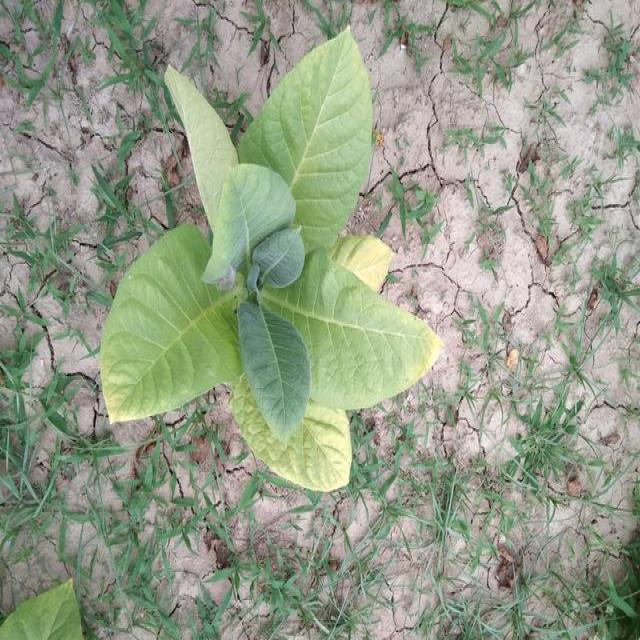crop: (92, 20, 449, 498)
